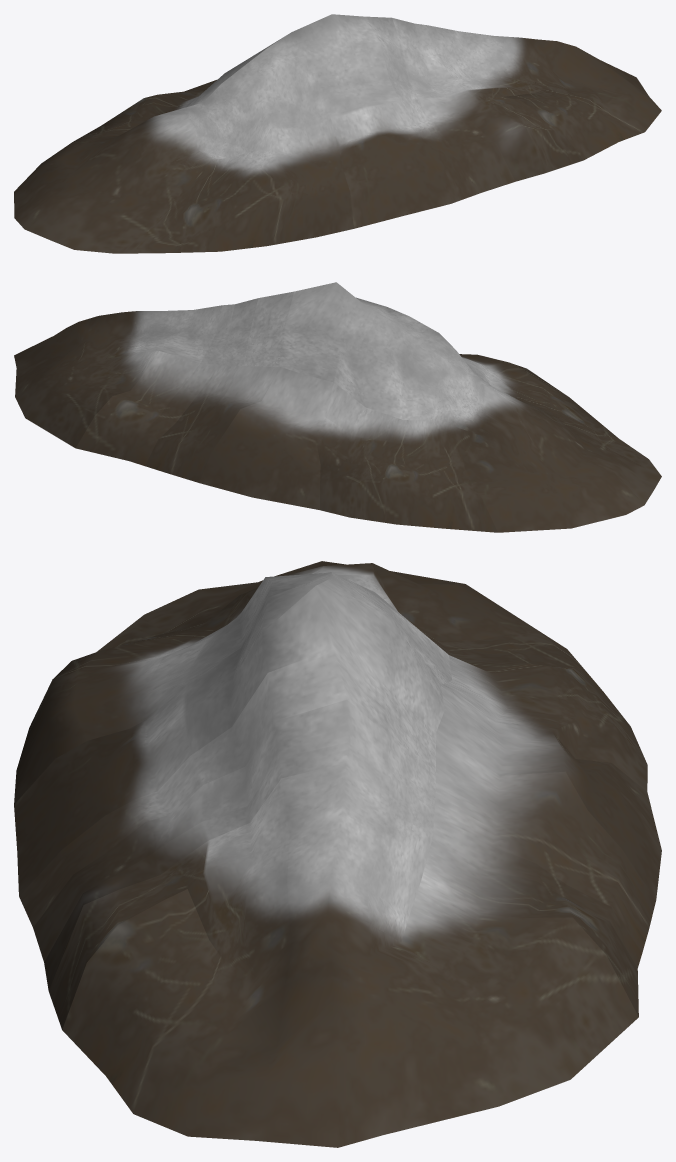
The model's file is Mountain_Norway.fbx.
The picture shows the model from 3 angles, top to bottom: view 1: azimuth 30°, elevation 25°; view 2: azimuth 150°, elevation 25°; view 3: azimuth 270°, elevation 25°; orthographic projection. The views are drawn at different scales.
Visible parts, largest first — view 1: Mountain_Norway; view 2: Mountain_Norway; view 3: Mountain_Norway.
Boxes of the visible parts, x1,y1,x2,y2 form: Mountain_Norway: [14, 14, 661, 253]; Mountain_Norway: [14, 282, 661, 532]; Mountain_Norway: [14, 561, 661, 1147].
Size of the model in its own units: 130 by 29.91 by 62.39.
